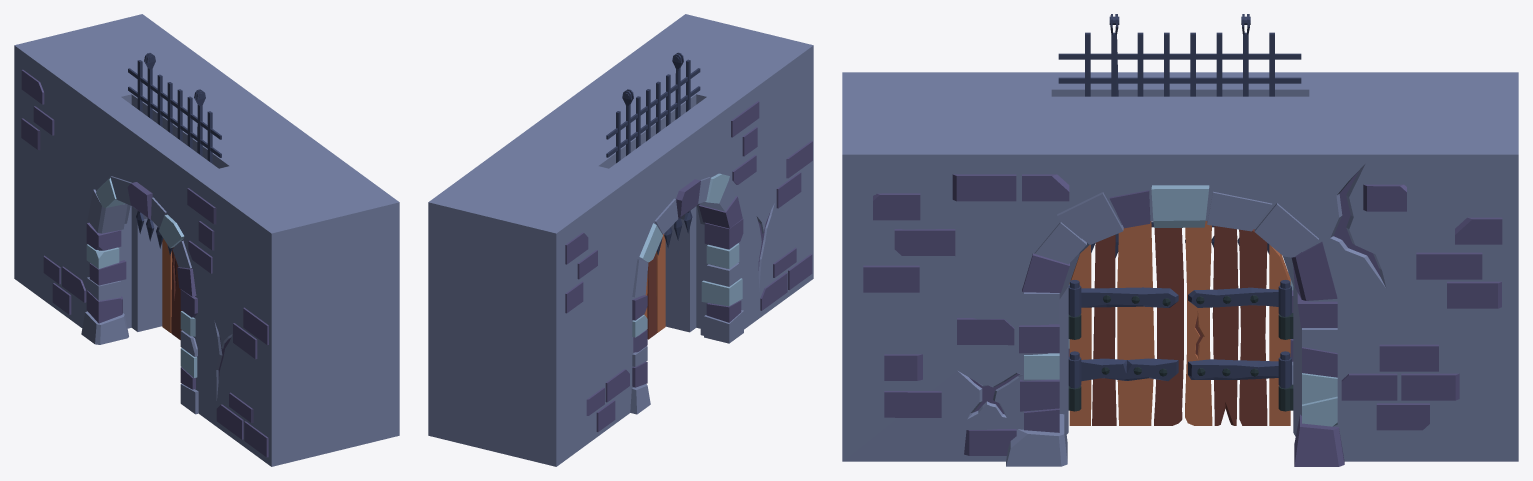
Rendered from Wall_Gate_01.fbx.
The picture shows the model from 3 angles, left to right: view 1: azimuth 30°, elevation 25°; view 2: azimuth 150°, elevation 25°; view 3: azimuth 270°, elevation 25°; orthographic projection. The views are drawn at different scales.
Visible parts, largest first — view 1: Wall_Gate_01, Gate_Iron, DoorWay_1; view 2: Wall_Gate_01, Gate_Iron, DoorWay_2; view 3: Wall_Gate_01, DoorWay_2, DoorWay_1, Gate_Iron.
Part boxes in pixels (x1,y1,x2,y2): Wall_Gate_01: [14, 14, 399, 466]; Gate_Iron: [128, 53, 221, 255]; DoorWay_1: [162, 238, 181, 339]; Wall_Gate_01: [428, 14, 813, 466]; Gate_Iron: [606, 52, 700, 255]; DoorWay_2: [644, 234, 665, 339]; Wall_Gate_01: [842, 72, 1518, 466]; DoorWay_2: [1068, 221, 1183, 425]; DoorWay_1: [1185, 221, 1291, 425]; Gate_Iron: [1058, 14, 1301, 257].
Size of the model in its own units: 514 by 1004 by 1598.
